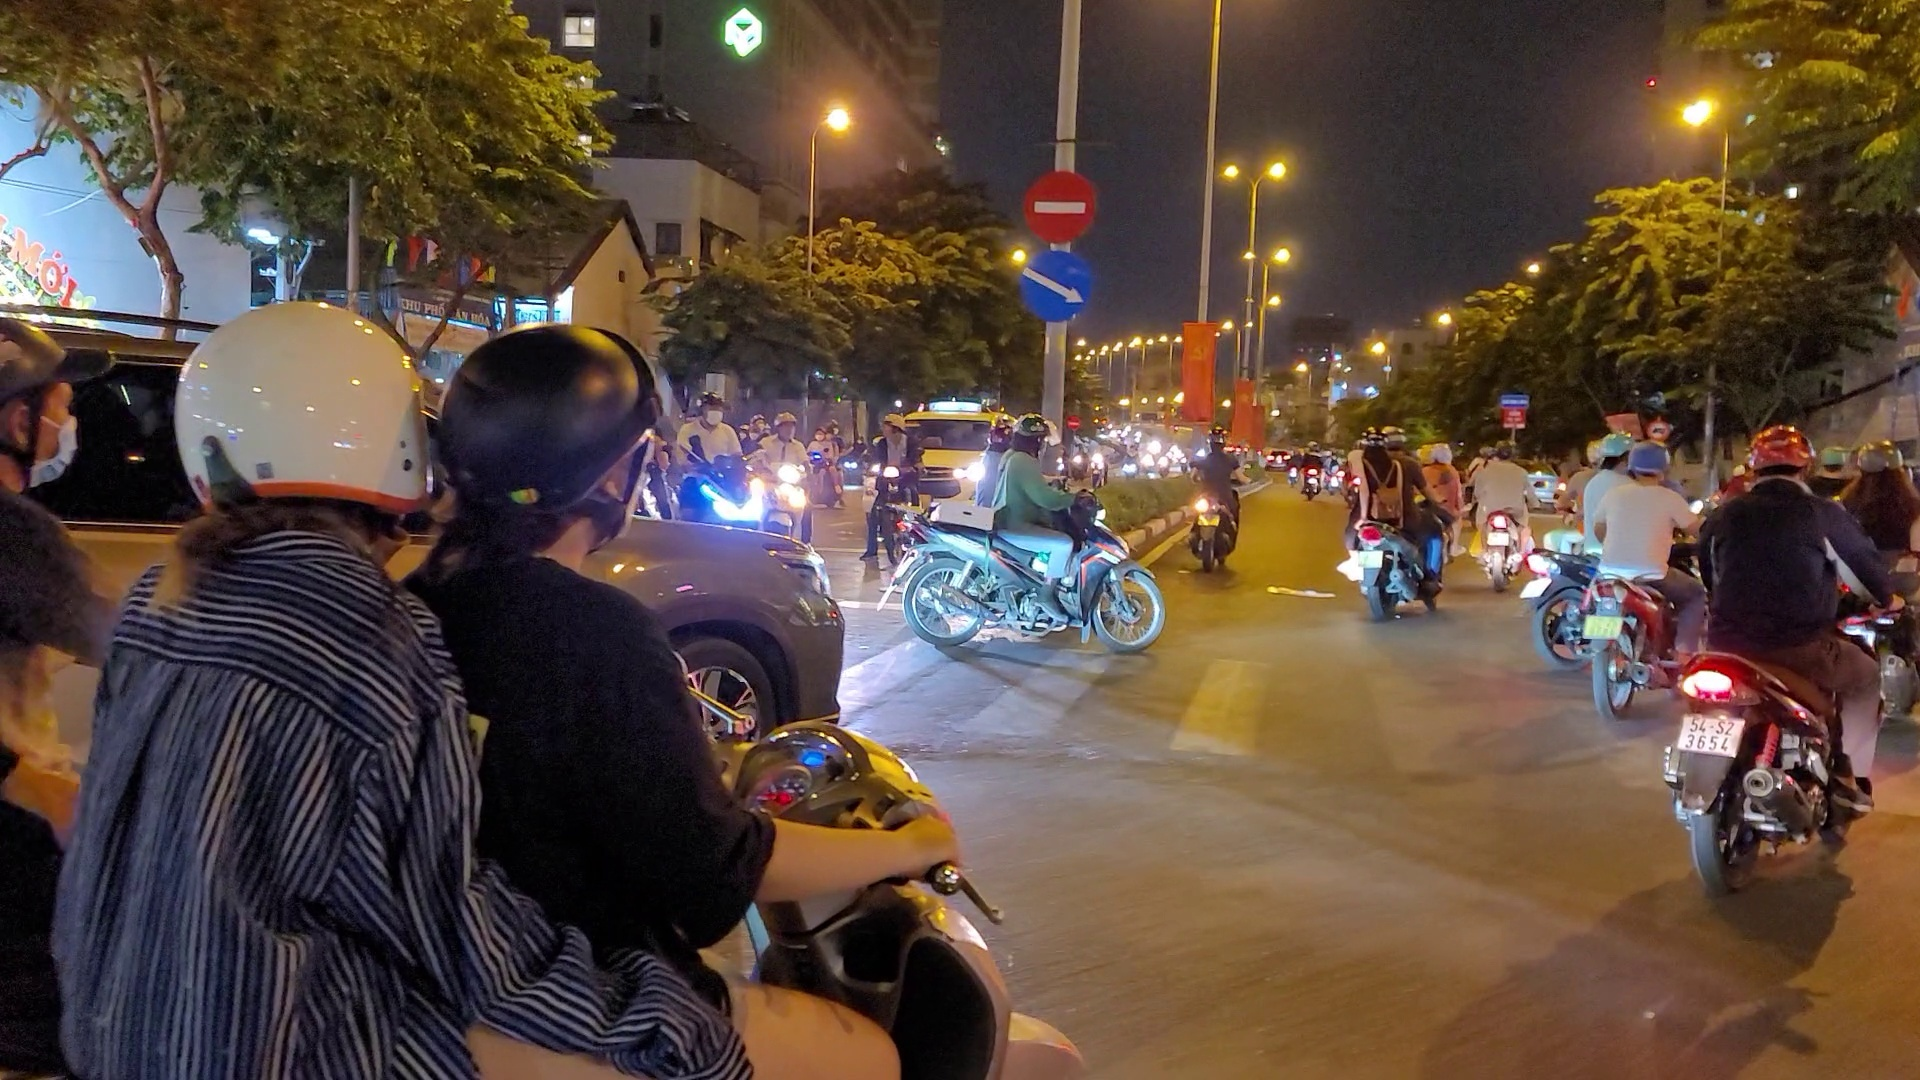Cam di nguoc chieu: (1021, 171, 1098, 243)
Huong di phai re phai: (1018, 251, 1089, 319)
